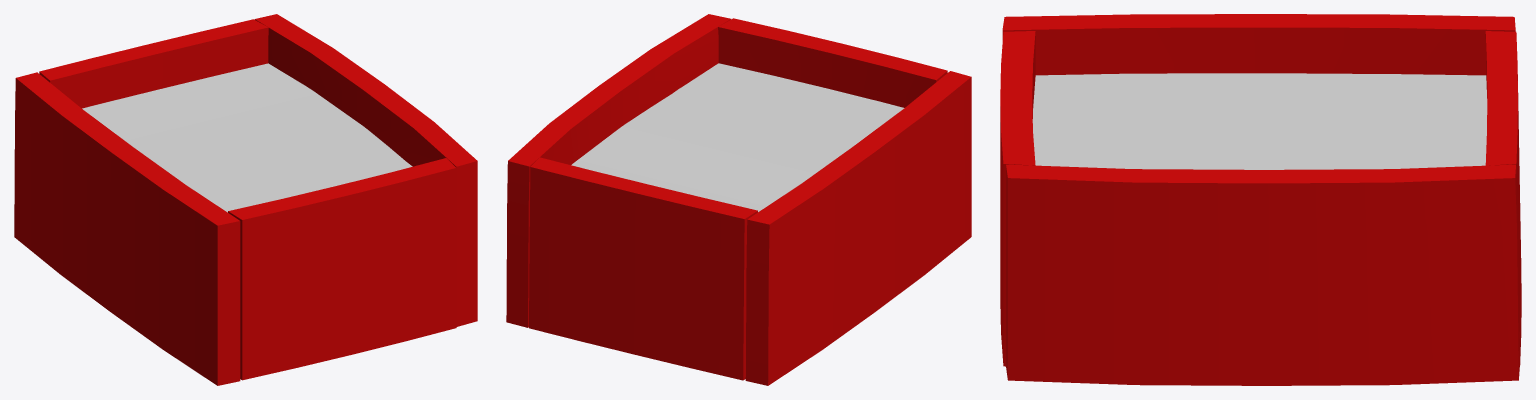
The picture shows the model from 3 angles, left to right: view 1: azimuth 30°, elevation 25°; view 2: azimuth 150°, elevation 25°; view 3: azimuth 270°, elevation 25°; orthographic projection. The views are drawn at different scales.
Visible parts, largest first — view 1: Cube.001; view 2: Cube.001; view 3: Cube.001.
Boxes of the visible parts, x1,y1,x2,y2 form: Cube.001: [14, 14, 477, 385]; Cube.001: [506, 14, 971, 385]; Cube.001: [1000, 14, 1521, 385].
Size of the model in its own units: 1.54 by 0.8572 by 2.
